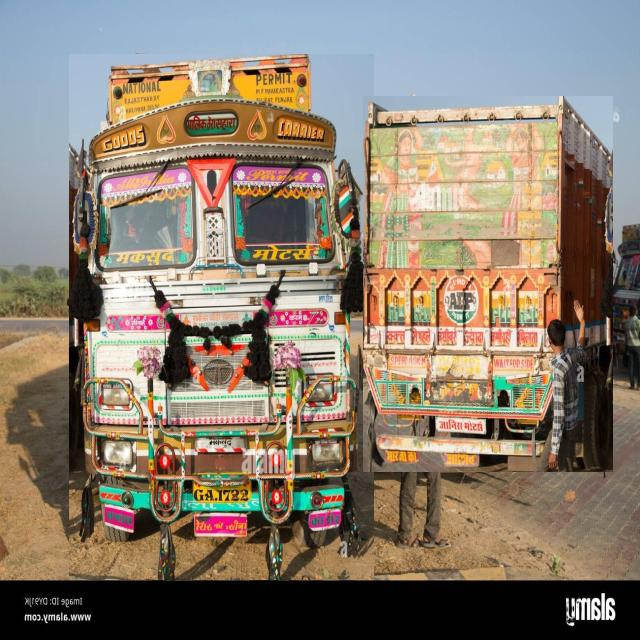truck: (69, 54, 374, 580), (363, 97, 612, 472)
